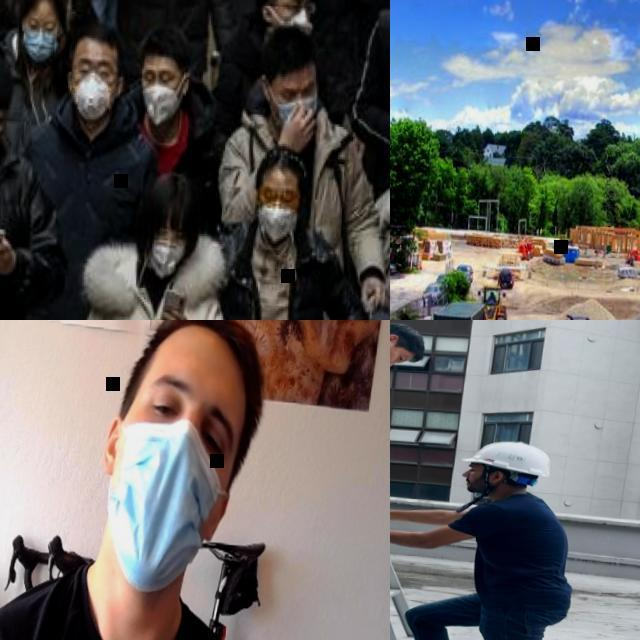helmet: (464, 436, 553, 477)
